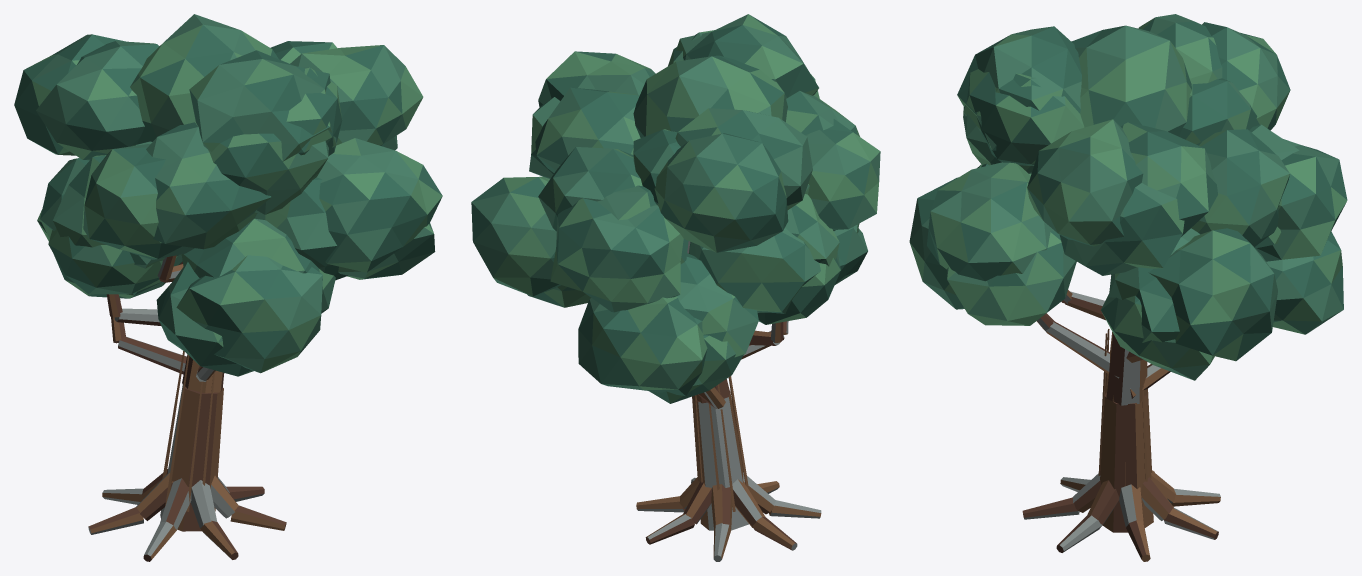
The model's file is dark_tree_c.glb.
3 renders of one model, left to right at view 1: azimuth 30°, elevation 25°; view 2: azimuth 150°, elevation 25°; view 3: azimuth 270°, elevation 25°, orthographic. The views are drawn at different scales.
Visible parts, largest first — view 1: dark_tree_c; view 2: dark_tree_c; view 3: dark_tree_c.
Boxes of the visible parts, x1=… form: dark_tree_c: x1=14, y1=14, x2=442, y2=561; dark_tree_c: x1=471, y1=14, x2=880, y2=561; dark_tree_c: x1=909, y1=14, x2=1347, y2=561.
Bounding box in the file's own units: 3.49 × 4.63 × 3.65.
